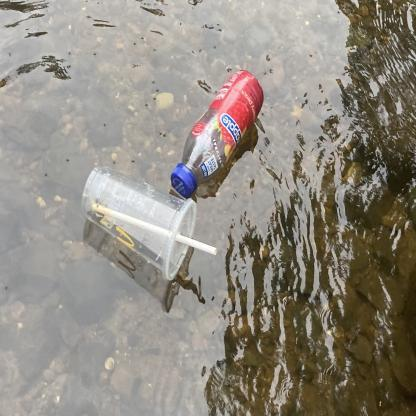trash: (78, 160, 221, 288), (165, 64, 270, 204)
